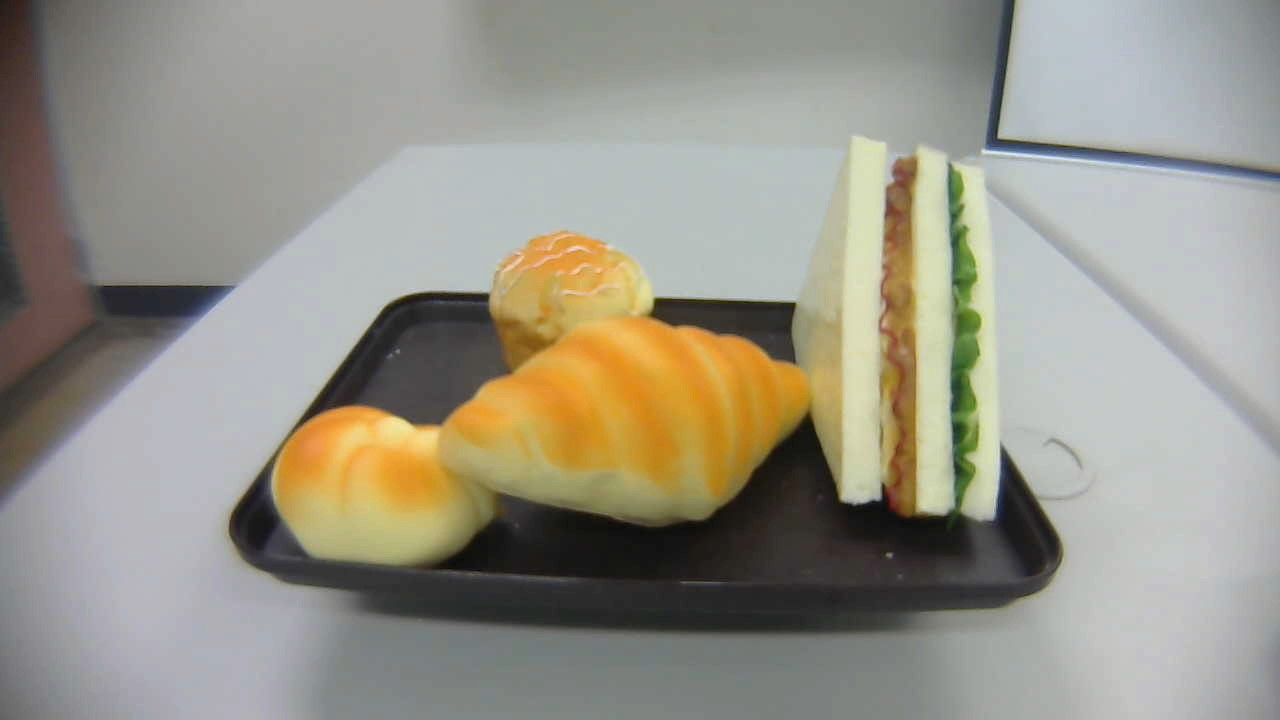croissant: (438, 317, 813, 527)
cupcake: (489, 229, 656, 382)
sandwich: (790, 135, 1001, 522)
twist bread: (270, 404, 507, 567)
